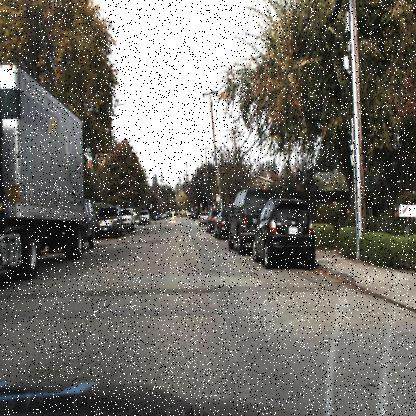car: (251, 197, 319, 269), (226, 184, 282, 258), (93, 201, 122, 241)
truck: (0, 59, 87, 281)
